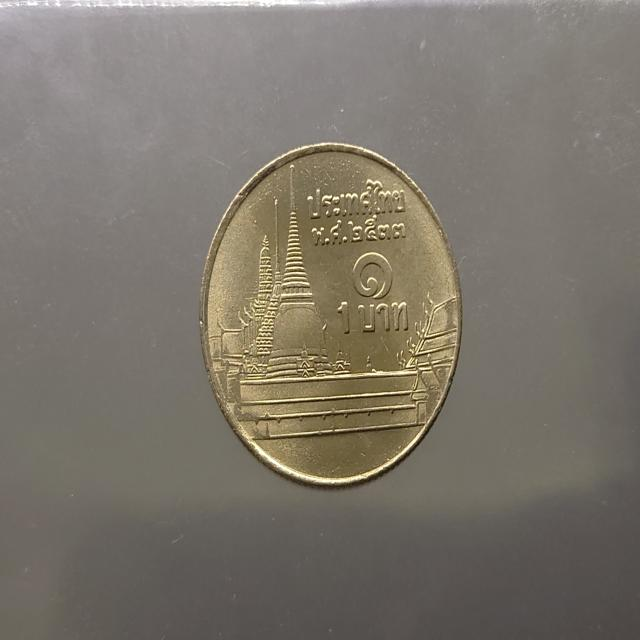1 Bath: (200, 127, 473, 500)
